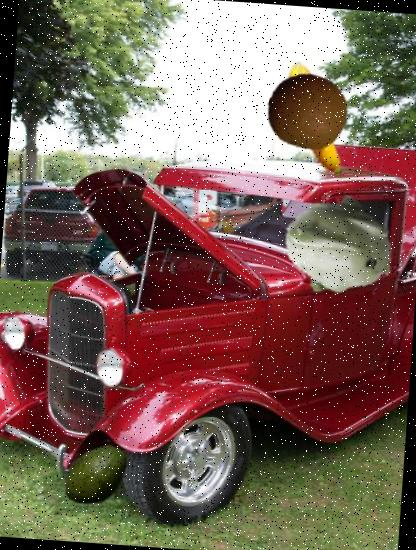Avocado: (58, 436, 136, 514)
Banana: (247, 54, 380, 187)
Kohlrabi: (278, 186, 401, 308)
Orange: (264, 68, 350, 154)
